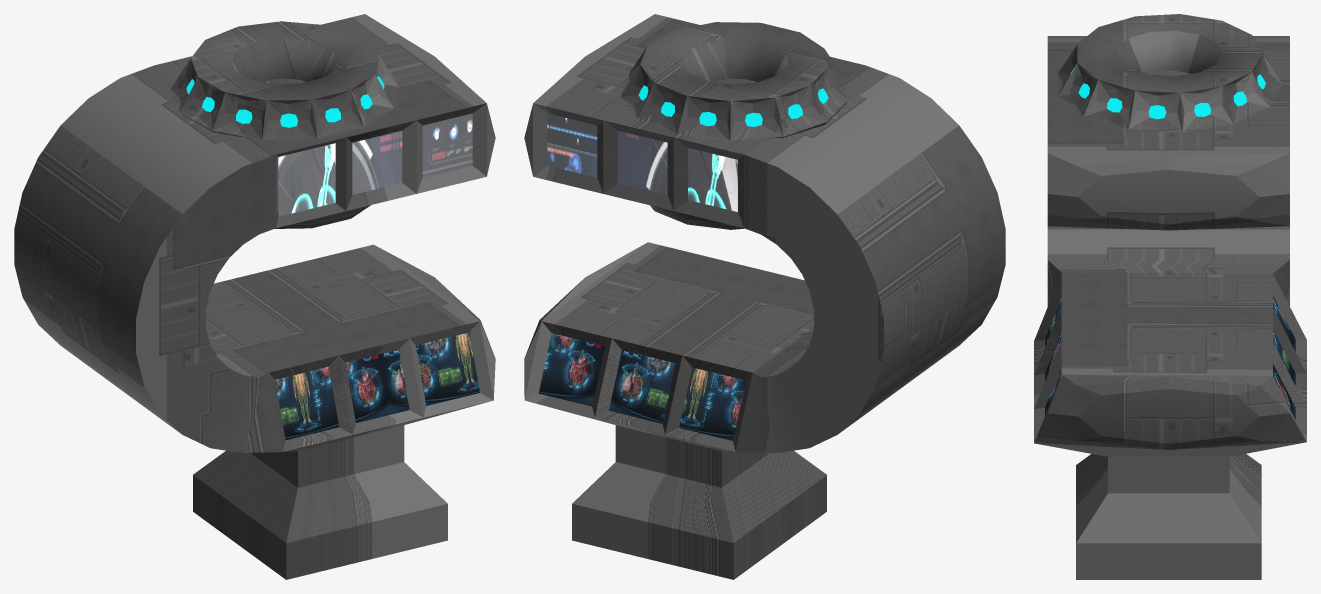
The model's file is sci-fi_medical_scanner2.glb.
3 views of the same model, side by side, from view 1: azimuth 30°, elevation 25°; view 2: azimuth 150°, elevation 25°; view 3: azimuth 270°, elevation 25° (orthographic).
Parts seen in each view (by area): view 1: MaterialFBXASC032FBXASC0352142150880, MaterialFBXASC032FBXASC0352142146756, MaterialFBXASC032FBXASC0352142146802, LIGHTKRAFTFBXASC032GRAVITONFBXASC032; view 2: MaterialFBXASC032FBXASC0352142150880, MaterialFBXASC032FBXASC0352142146756, MaterialFBXASC032FBXASC0352142146802, LIGHTKRAFTFBXASC032GRAVITONFBXASC032; view 3: MaterialFBXASC032FBXASC0352142150880, MaterialFBXASC032FBXASC0352142146756, LIGHTKRAFTFBXASC032GRAVITONFBXASC032.
Boxes of the visible parts, x1,y1,x2,y2 form: MaterialFBXASC032FBXASC0352142150880: [14, 14, 495, 579]; MaterialFBXASC032FBXASC0352142146756: [275, 332, 479, 439]; MaterialFBXASC032FBXASC0352142146802: [278, 113, 472, 216]; LIGHTKRAFTFBXASC032GRAVITONFBXASC032: [186, 76, 384, 127]; MaterialFBXASC032FBXASC0352142150880: [524, 14, 1005, 579]; MaterialFBXASC032FBXASC0352142146756: [538, 333, 745, 440]; MaterialFBXASC032FBXASC0352142146802: [547, 113, 737, 211]; LIGHTKRAFTFBXASC032GRAVITONFBXASC032: [638, 85, 828, 126]; MaterialFBXASC032FBXASC0352142150880: [1034, 14, 1306, 579]; MaterialFBXASC032FBXASC0352142146756: [1045, 296, 1295, 419]; LIGHTKRAFTFBXASC032GRAVITONFBXASC032: [1070, 66, 1265, 119].
Bounding box in the file's own units: 12.53 × 15.39 × 8.09.
6 materials, 2 textured.
